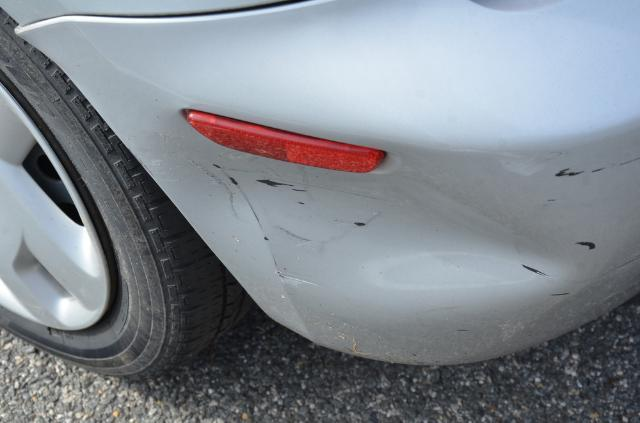dent: (177, 158, 579, 287)
scratch: (552, 156, 640, 178)
